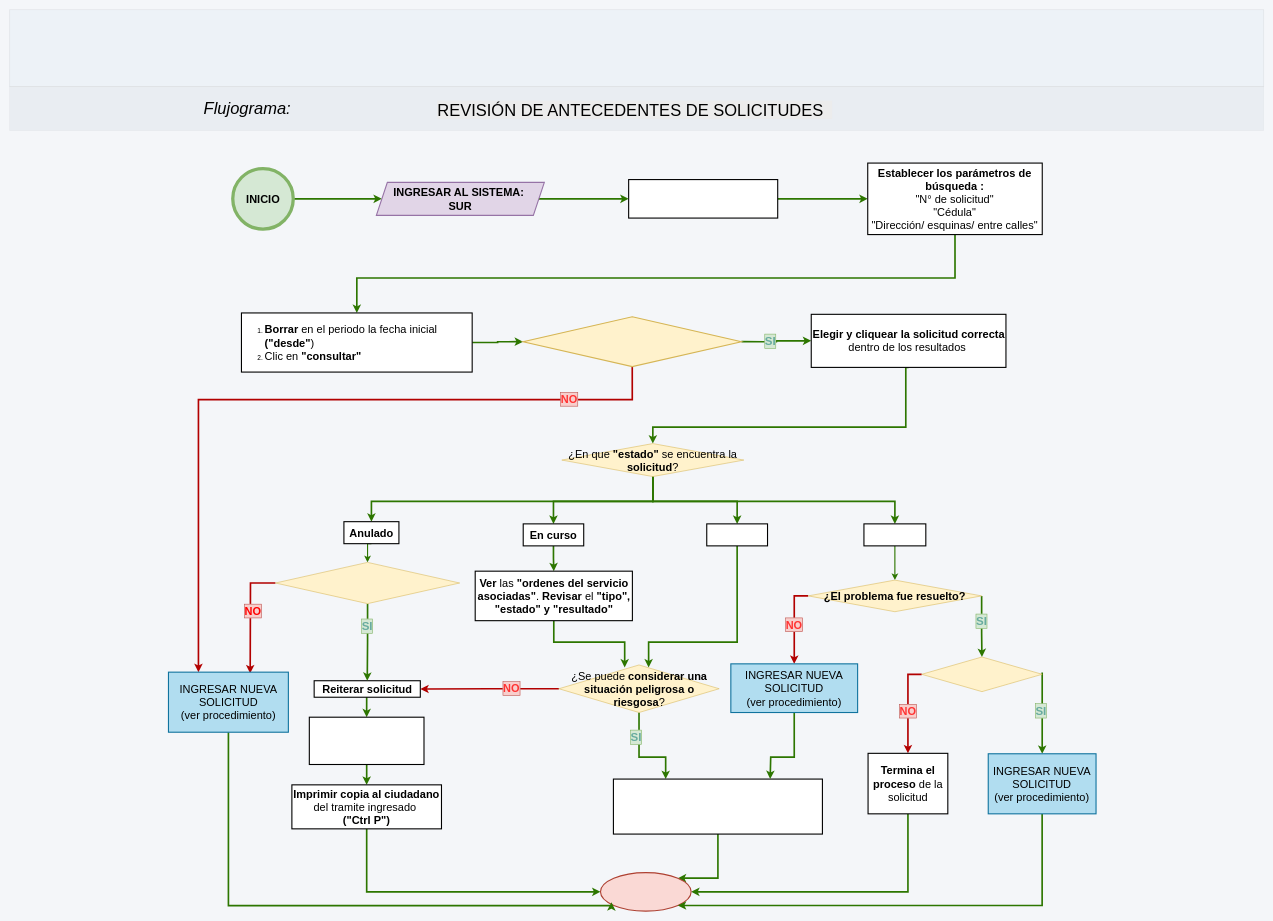
The diagram is 1273 pixels wide and 921 high, and some of its shapes have lost their labels. The shapes that lost their labels are listed below. From the top down, each one's centre as x and y in pixels, then its label:
(703,198): Ingresar a: "consultas" en el ítem "solicitudes"
(632,341): ¿ Existen antecedentes recientes para esa misma dirección del problema?
(737,534): Ingresada
(894,534): Finalizado
(367,583): ¿ Existe otra solicitud en curso para este mismo problema y dirección?
(981,674): ¿El problema ha vuelto a manifestarse?
(366,740): Describir las nuevas observaciones a realizar
(718,806): Elevar a coordinación o dirección de forma inmediata para su evaluación
(645,891): FIN
